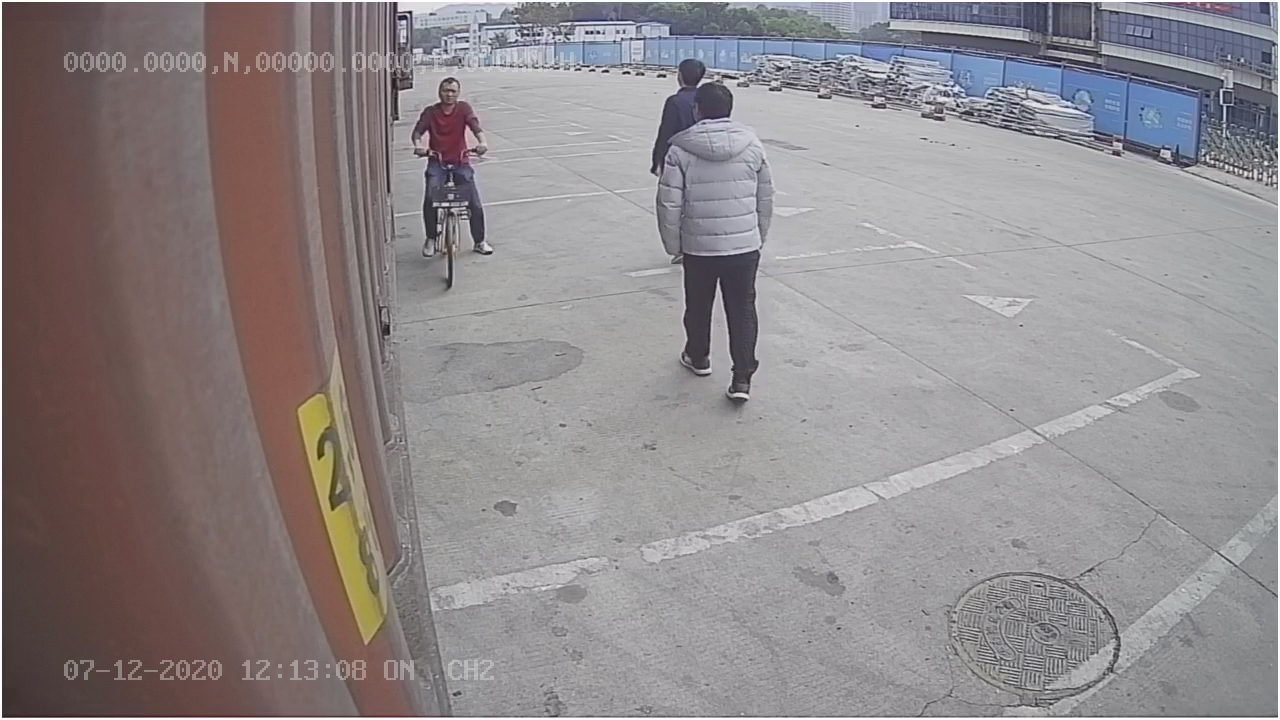person: (652, 81, 775, 404)
